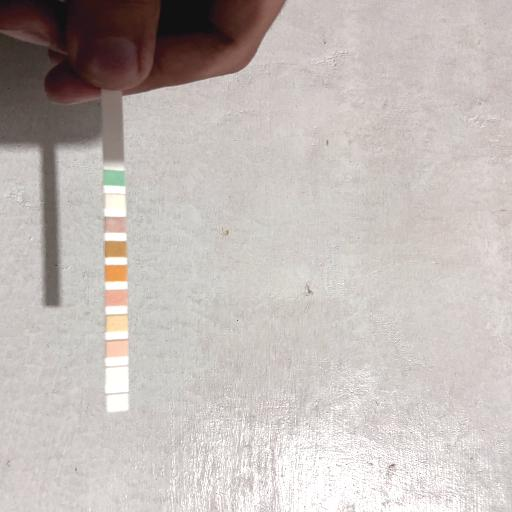Bilirubin: (107, 195, 125, 209)
Blood: (106, 266, 126, 280)
Glucose: (105, 171, 124, 185)
Ketone: (106, 218, 124, 232)
Leukocytes: (108, 394, 128, 408)
Nitrite: (107, 368, 127, 382)
Protein: (107, 317, 127, 331)
SpGravity: (106, 242, 126, 256)
Urobilinogen: (107, 342, 127, 356)
pH: (107, 292, 127, 306)
strip: (101, 88, 129, 412)
